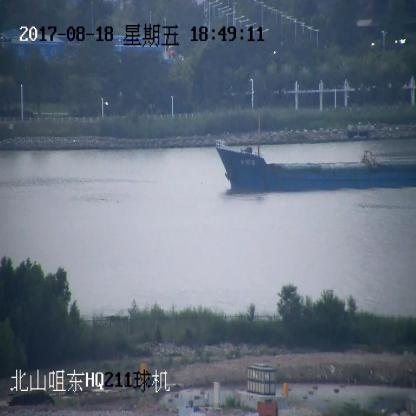Bulk Carrier: (216, 141, 415, 192)
